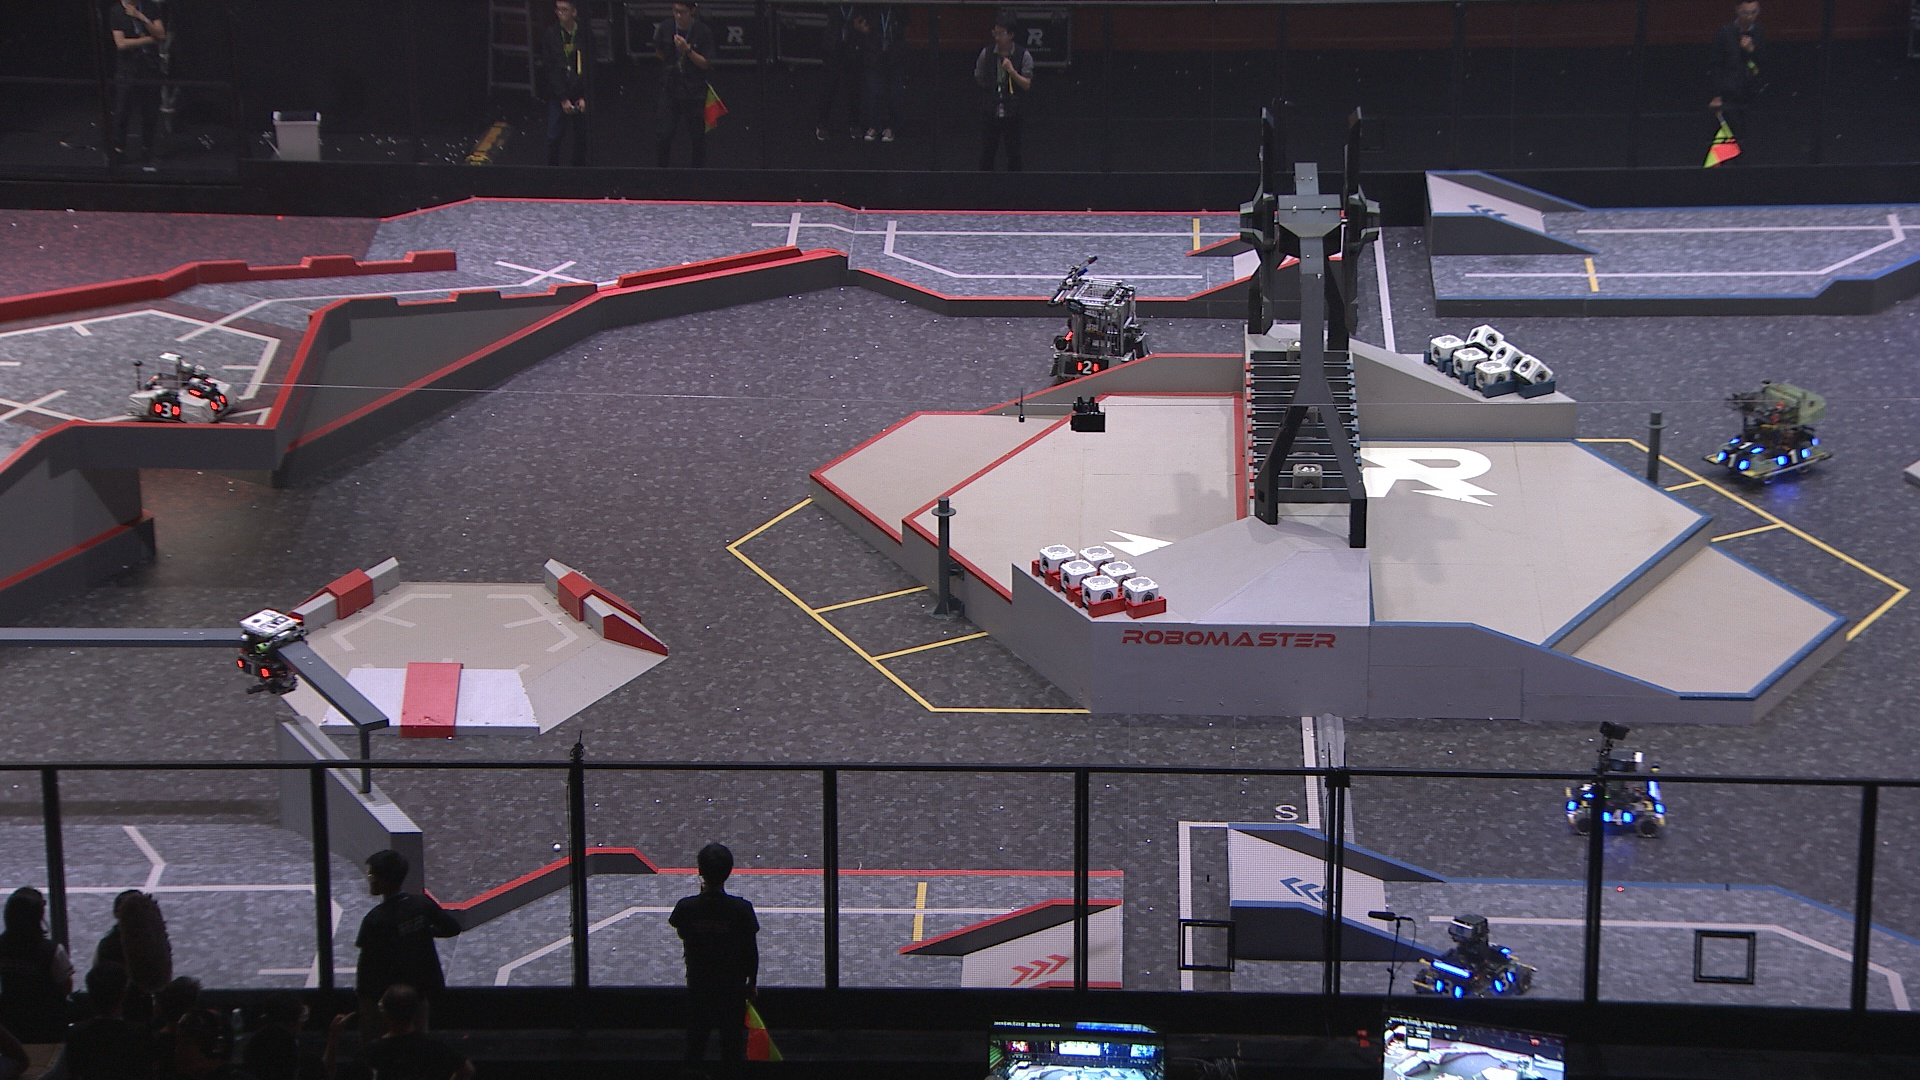armor: (229, 655, 272, 683), (1429, 975, 1465, 1005), (1774, 444, 1813, 471), (1716, 447, 1753, 471), (1726, 433, 1762, 456), (1490, 963, 1516, 993), (182, 376, 215, 400), (1069, 356, 1102, 378), (154, 400, 185, 423), (207, 386, 229, 415), (1604, 807, 1633, 825), (1125, 345, 1149, 365), (1578, 779, 1600, 799)
car: (1702, 376, 1840, 493), (1408, 910, 1536, 1014), (1054, 276, 1155, 390), (1557, 744, 1667, 841), (124, 348, 243, 427)
watcher: (229, 603, 301, 698)
